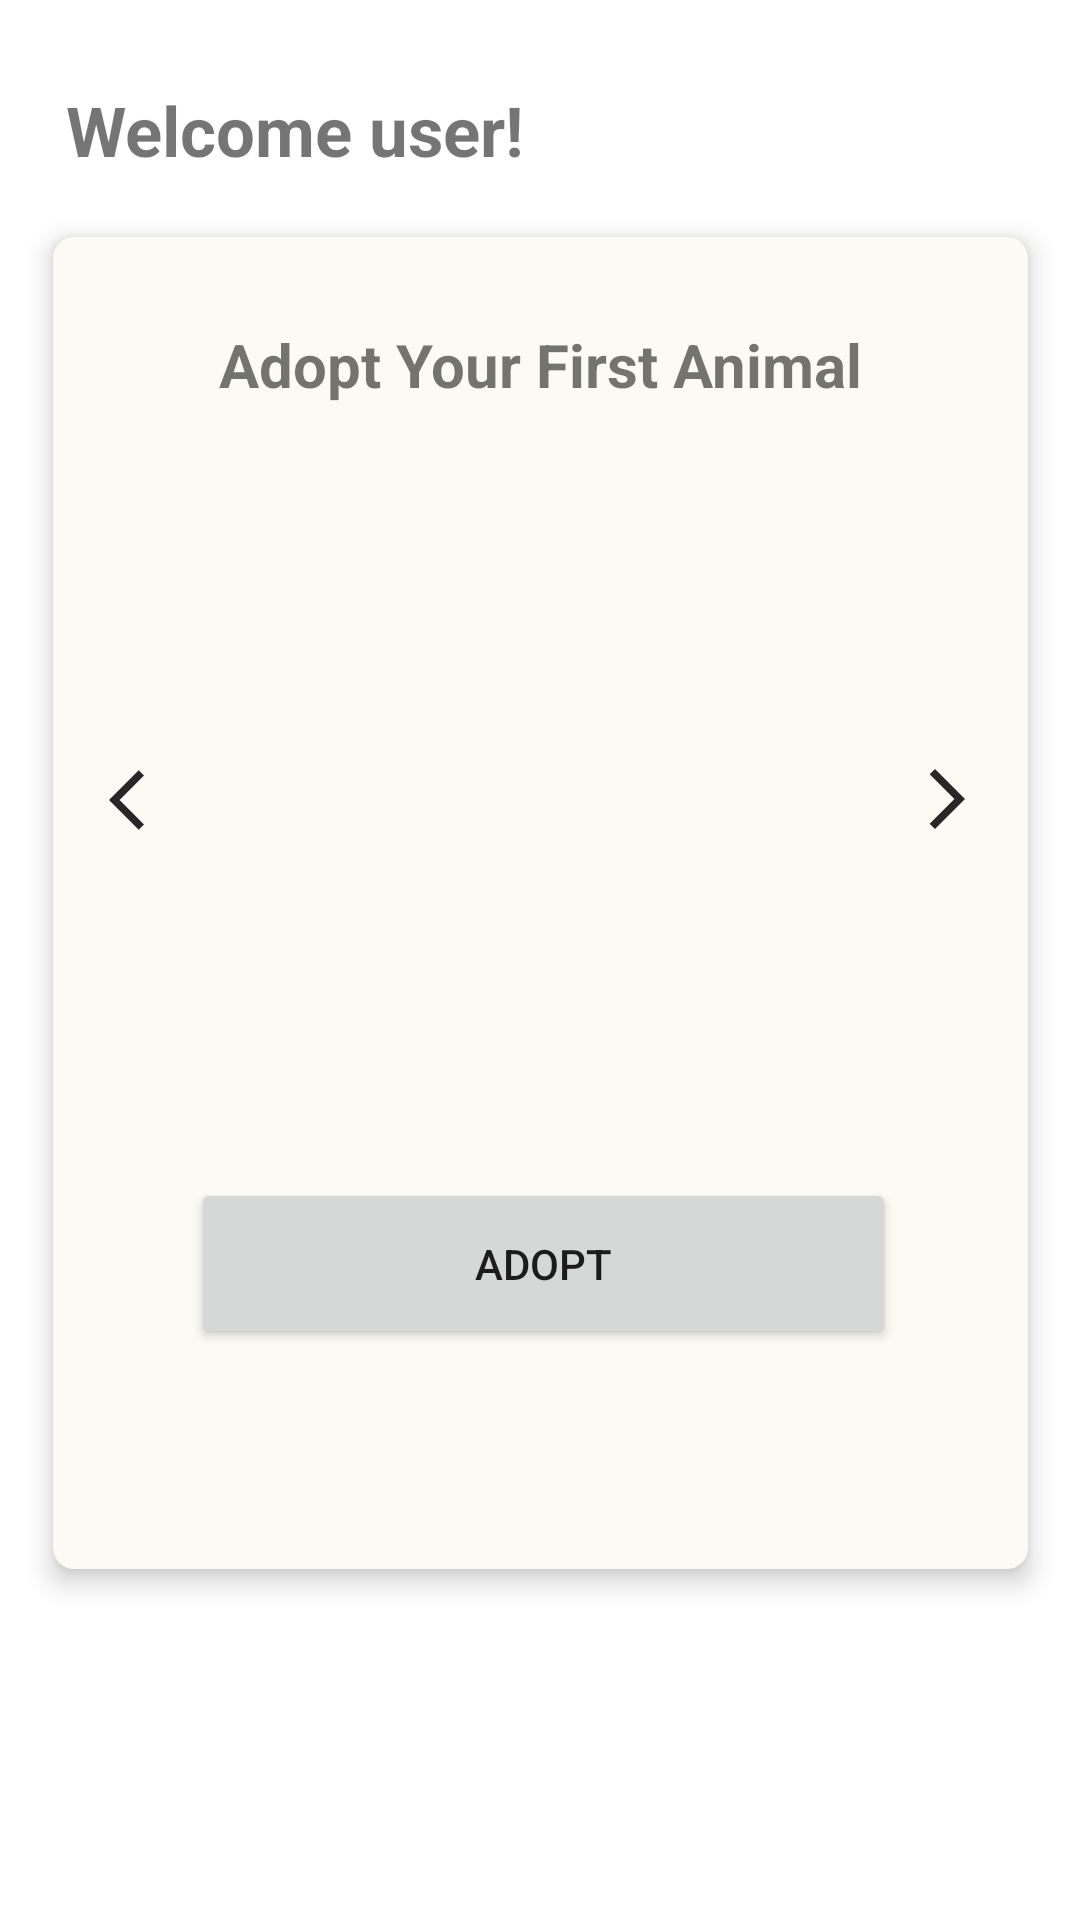

Point at icon controls on the screen. Image size 1080x1920, points as (x=x, y=y).
arrow forward: (x=947, y=799)
prev: (x=126, y=800)
